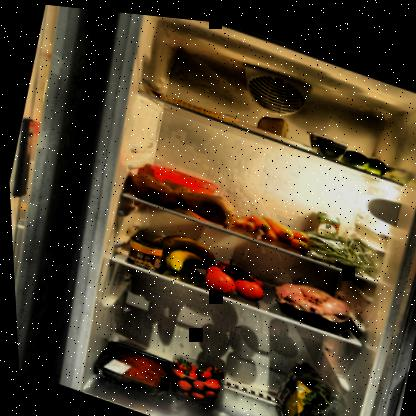banana: (139, 220, 216, 279)
beef: (90, 334, 166, 398)
butter: (140, 152, 220, 204)
carrot: (226, 198, 314, 251), (252, 104, 292, 135)
chicken: (264, 267, 358, 332)
corn: (125, 231, 166, 271)
green_beans: (296, 212, 376, 272)
heavy_cream: (307, 201, 344, 248)
lime: (336, 139, 394, 171)
spinach: (262, 344, 354, 415)
strawberries: (160, 345, 227, 407)
sweet_potato: (119, 158, 236, 229)
tomato: (197, 243, 271, 304)
